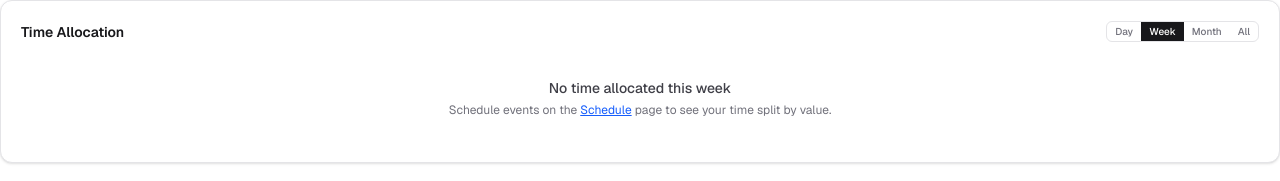
Test: TimeAllocation component › empty state › displays period-specific empty label for "day"
Expected: the text "No time allocated this week" is shown, x1=549 y1=78 x2=731 y2=98
Note: Switch to day
Click the button "day".
click(1124, 32)  # box x1=1107 y1=22 x2=1141 y2=41
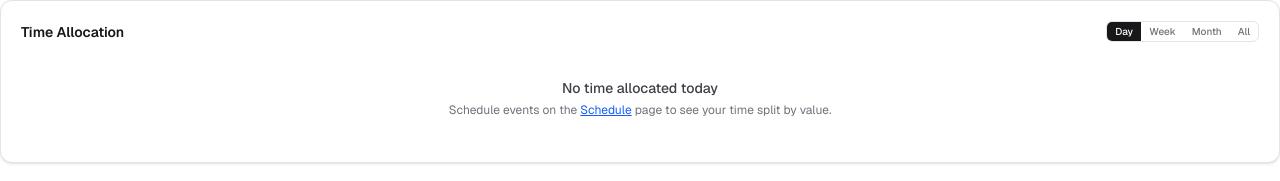
Expected: the text "No time allocated today" is shown, x1=562 y1=78 x2=718 y2=98
